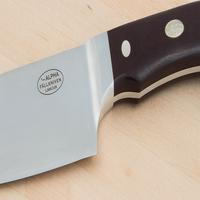knife: (1, 24, 200, 188)
